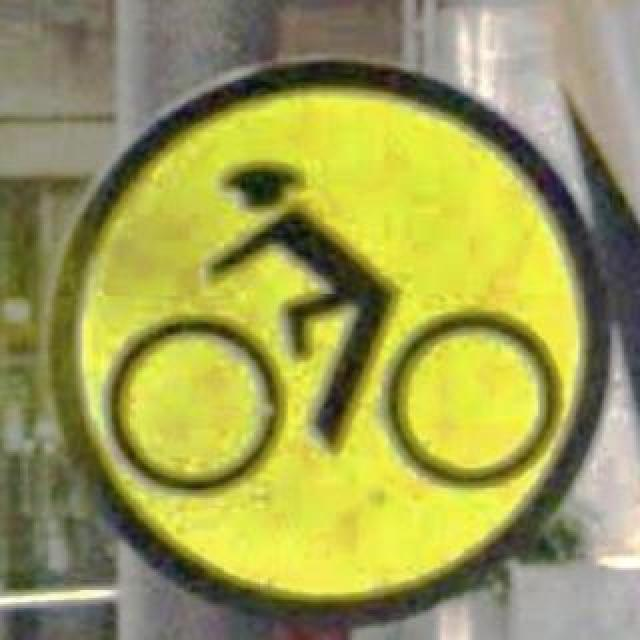bike lane: (46, 56, 610, 616)
